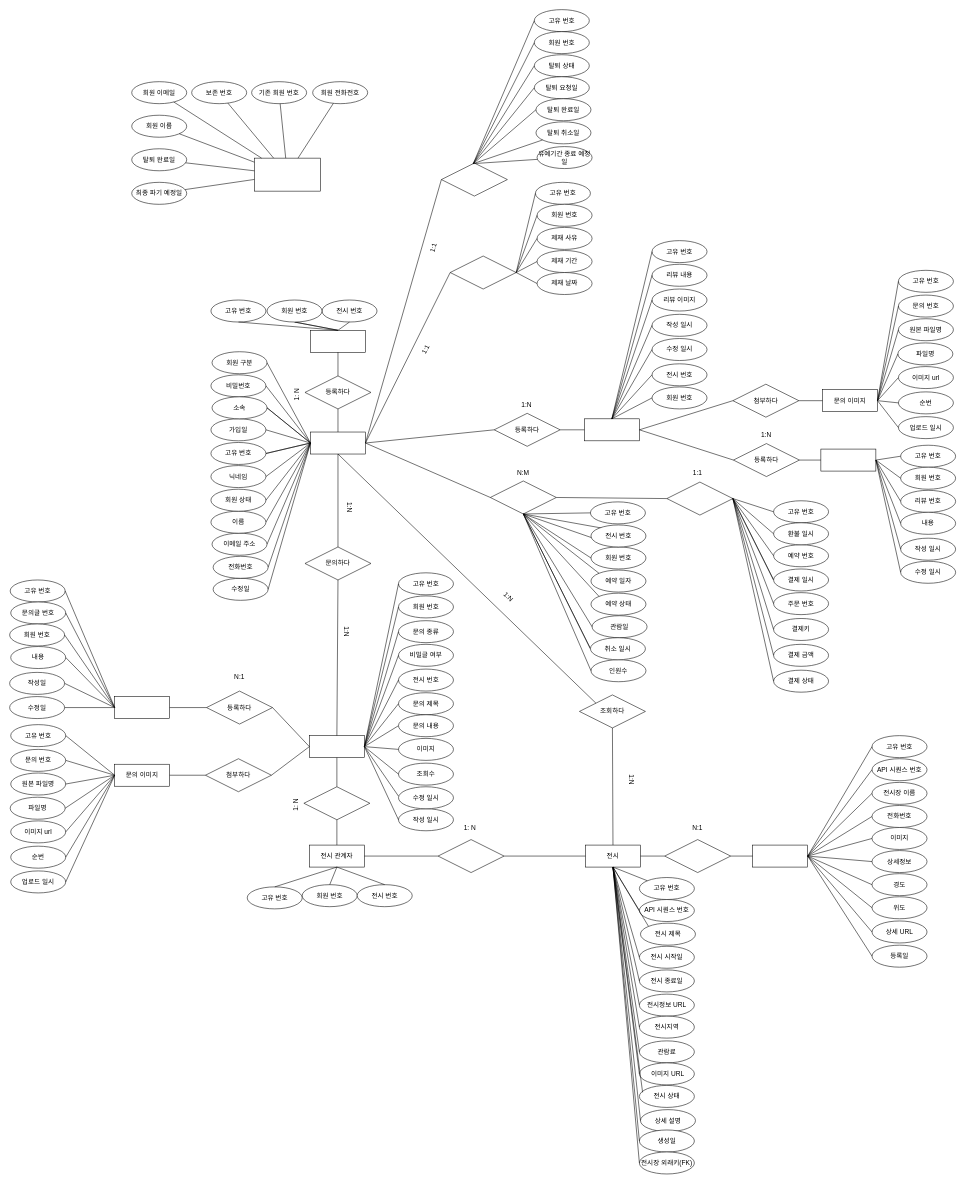
The diagram is 965 pixels wide and 1184 high, and some of its shapes have lost their labels. The box of each missing label's shape, as (x1, y1, x2, y2) in pixels:
결제하다: (666, 482, 733, 515)
관리하다: (438, 839, 504, 873)
리뷰: (584, 418, 639, 441)
리뷰 댓글: (820, 449, 876, 471)
문의: (309, 735, 364, 758)
문의 댓글: (114, 696, 170, 719)
열리다: (664, 839, 731, 873)
예약하다: (490, 480, 556, 514)
위시 리스트: (310, 330, 365, 352)
응답하다: (303, 786, 370, 820)
전시장: (752, 845, 808, 867)
제재받다: (450, 255, 516, 289)
탈퇴하다: (441, 163, 507, 196)
회원: (310, 431, 365, 454)
회원 보존정보: (254, 158, 320, 191)
